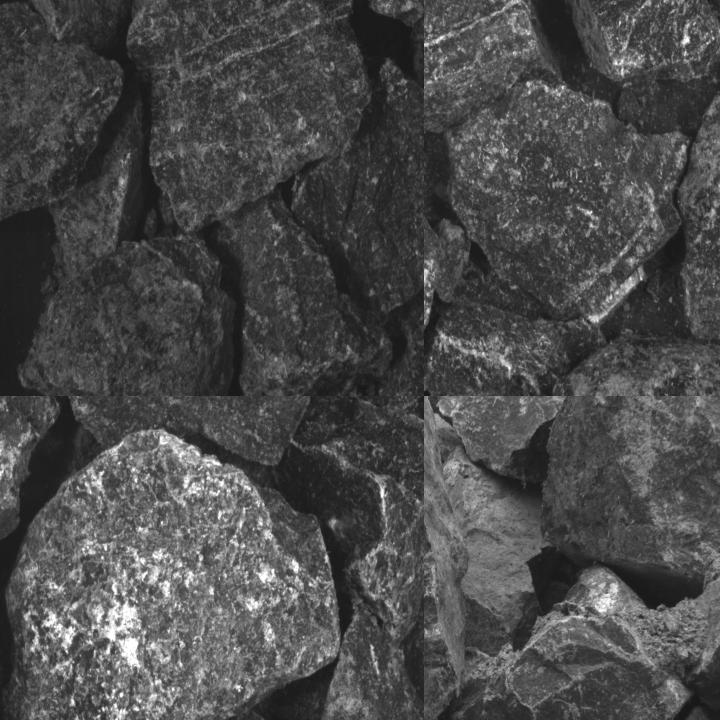stone: (4, 426, 341, 719), (446, 84, 692, 325), (126, 0, 372, 234), (529, 396, 719, 596), (211, 188, 392, 395), (21, 232, 235, 395), (289, 58, 423, 318), (455, 570, 685, 719), (288, 396, 423, 643), (0, 1, 125, 234), (35, 396, 344, 468), (446, 434, 538, 654), (265, 599, 423, 719), (48, 91, 144, 283), (424, 0, 563, 132), (427, 396, 621, 489), (424, 304, 609, 395), (546, 0, 719, 81), (677, 22, 719, 339), (541, 331, 719, 395), (294, 0, 423, 86), (433, 220, 543, 319), (661, 547, 719, 719), (5, 0, 144, 54), (424, 132, 450, 221), (132, 0, 176, 20), (618, 89, 640, 120)
